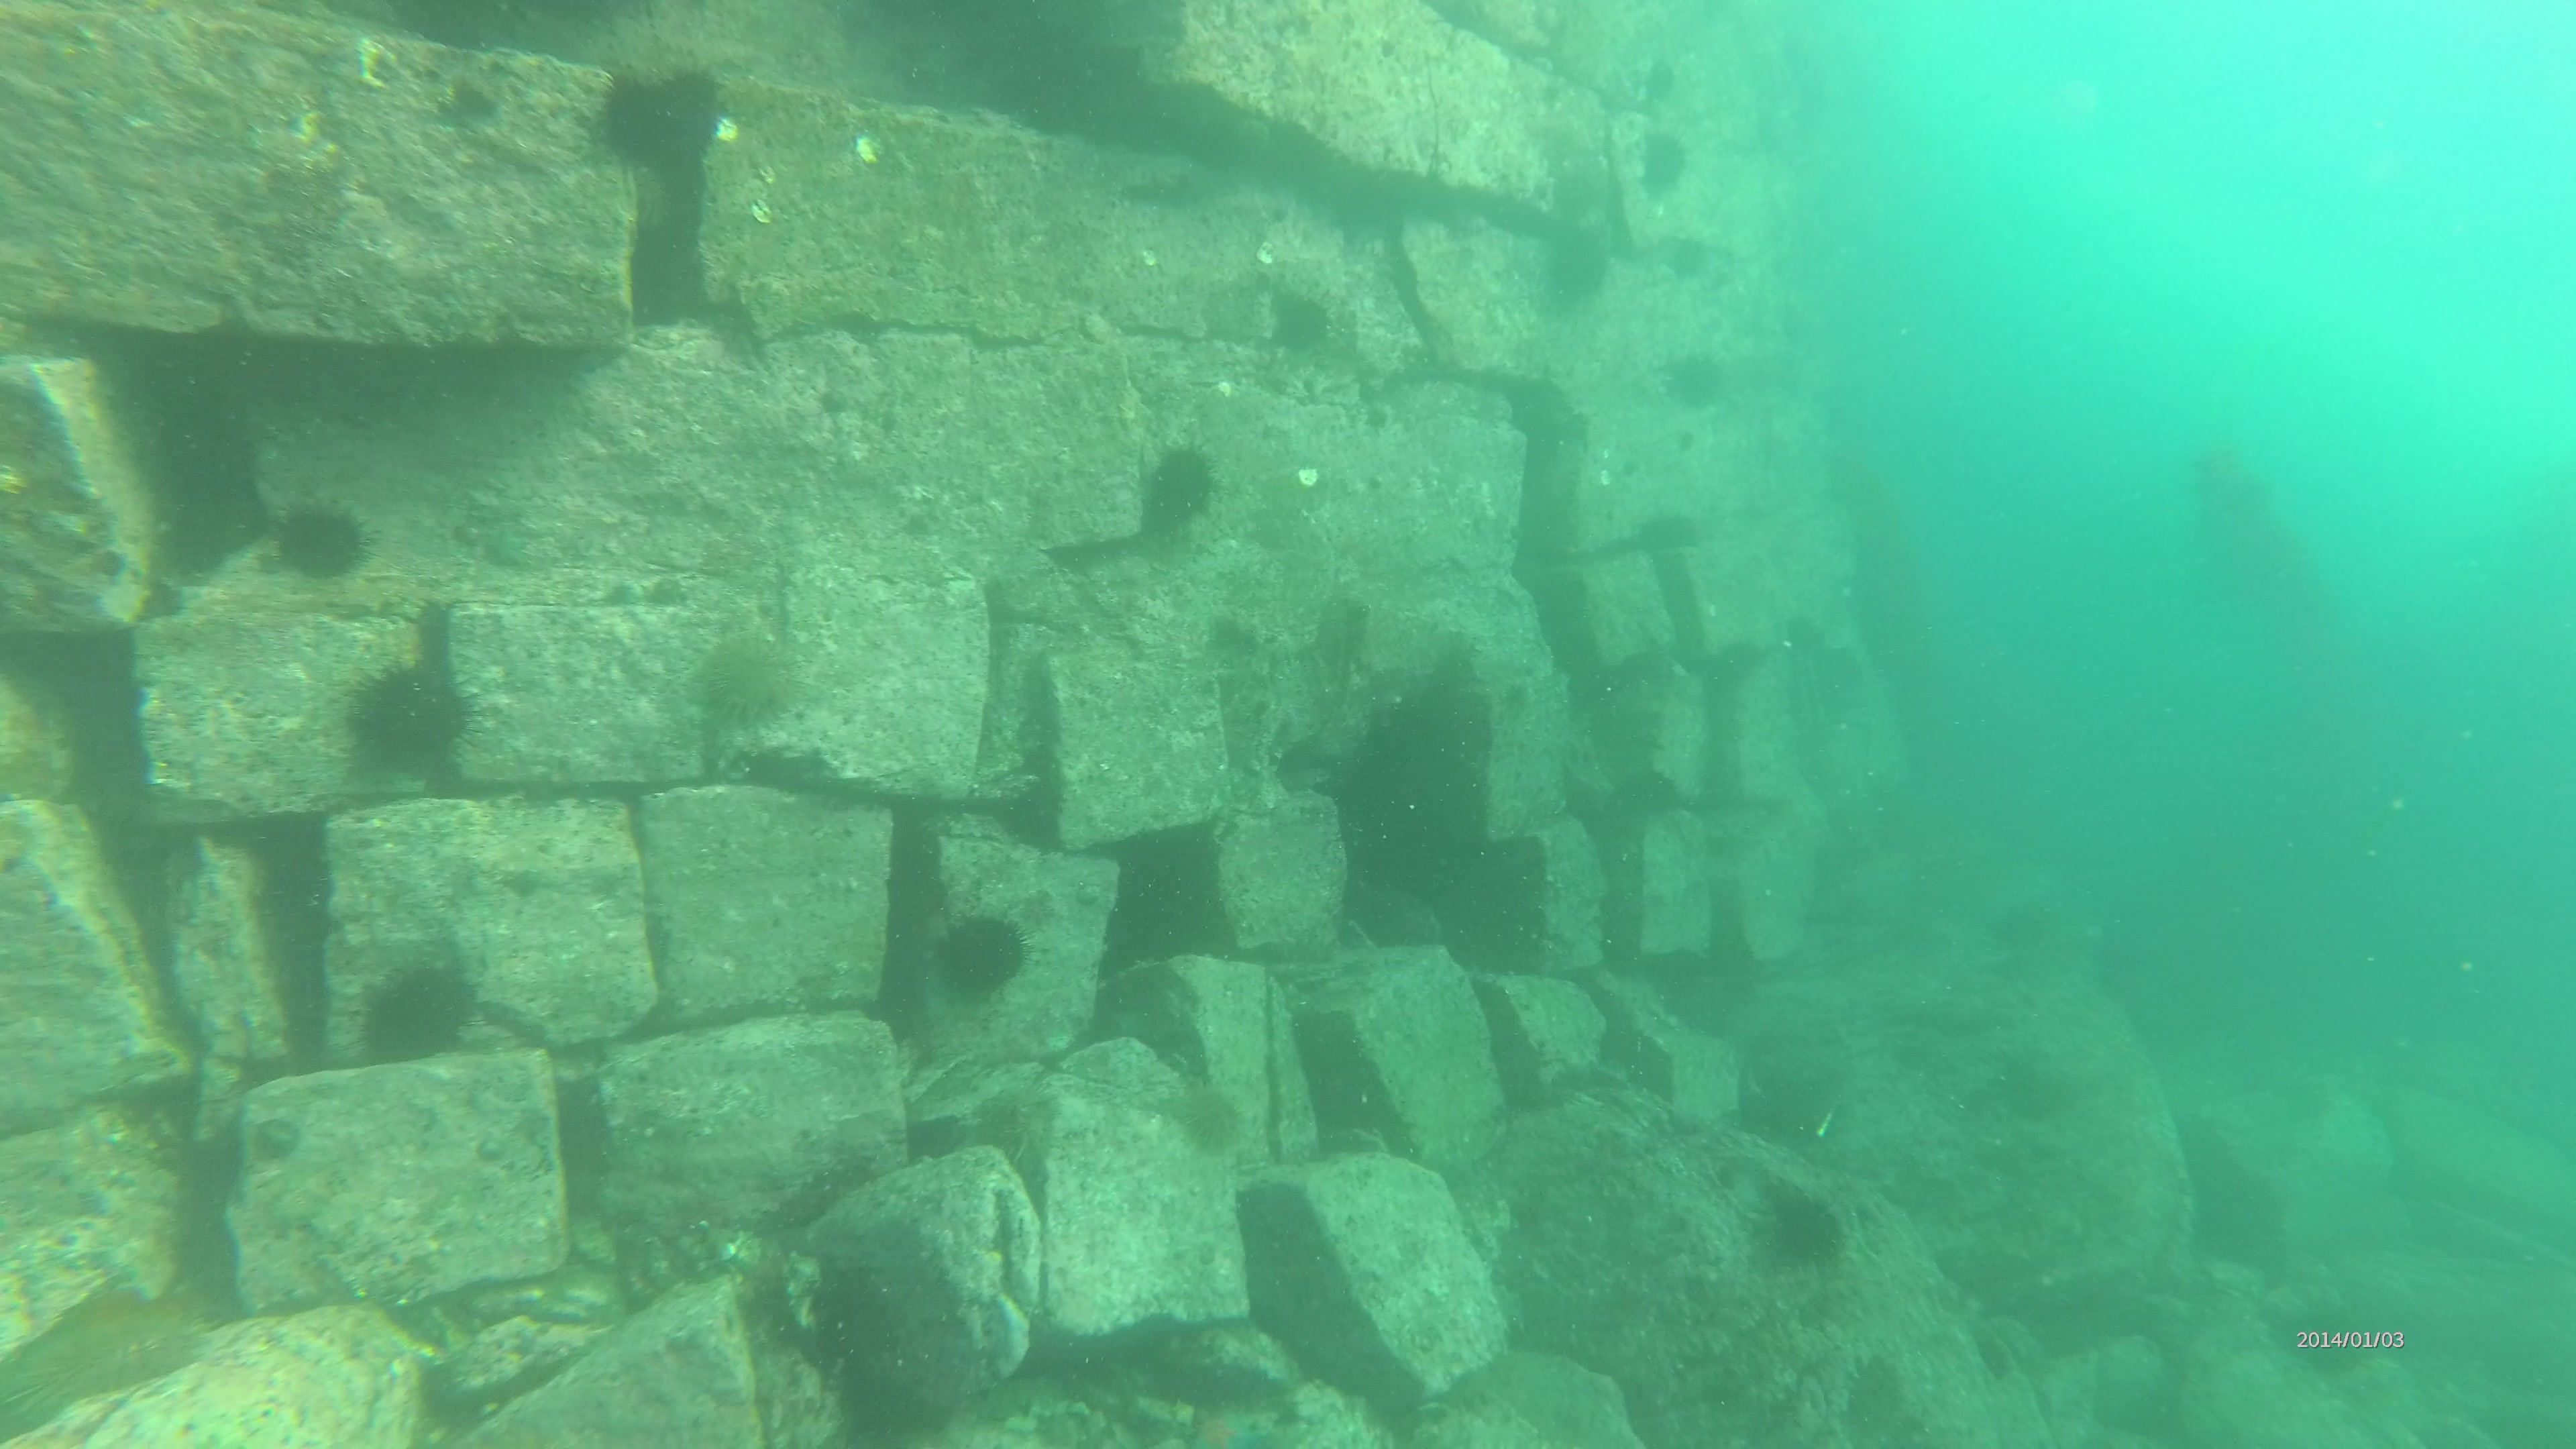echinus: (340, 656, 483, 766), (356, 961, 492, 1060), (685, 623, 809, 725), (248, 492, 386, 579), (934, 902, 1044, 1003), (1139, 435, 1230, 533)
